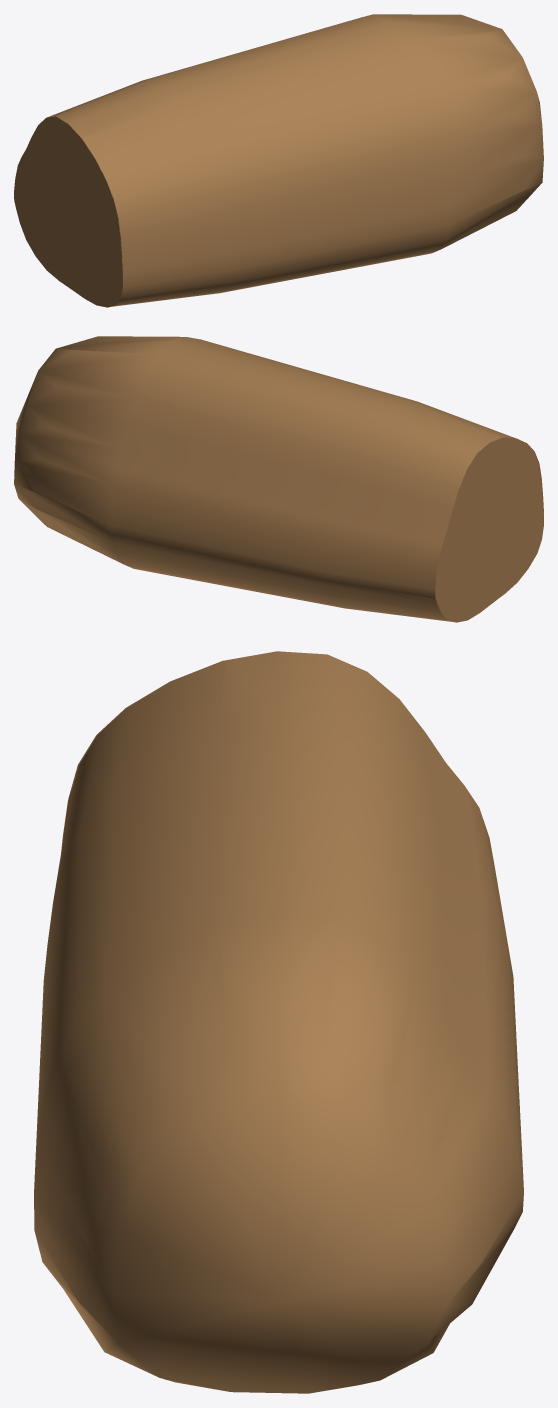
The model's file is Frinchfry_LLowerArm.fbx.
The picture shows the model from 3 angles, top to bottom: view 1: azimuth 30°, elevation 25°; view 2: azimuth 150°, elevation 25°; view 3: azimuth 270°, elevation 25°; orthographic projection. The views are drawn at different scales.
Parts seen in each view (by area): view 1: LArmLower1; view 2: LArmLower1; view 3: LArmLower1.
Part boxes in pixels (bbox=[...]): LArmLower1: bbox=[14, 14, 543, 307]; LArmLower1: bbox=[14, 336, 543, 622]; LArmLower1: bbox=[34, 651, 523, 1393].
Size of the model in its own units: 41.71 by 17.71 by 18.77.
